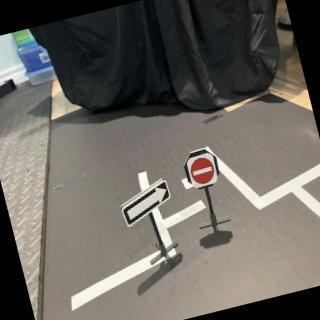sign_noentry: (186, 152, 222, 192)
sign_oneway_right: (116, 176, 178, 230)
